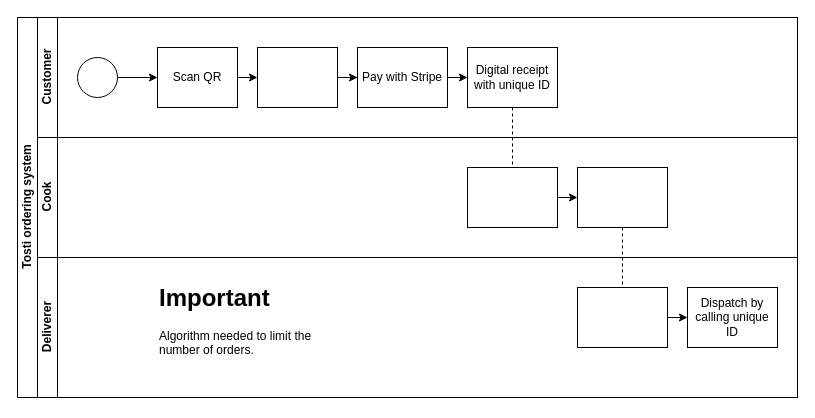
This 815x418 diagram has some shape labels left out. Each missing label, with the centre of its shape:
"Check when done" belongs at point (622, 197).
"Select tosti" belongs at point (297, 77).
"UI with deliveries" belongs at point (622, 317).
"UI with paid orders" belongs at point (512, 197).
